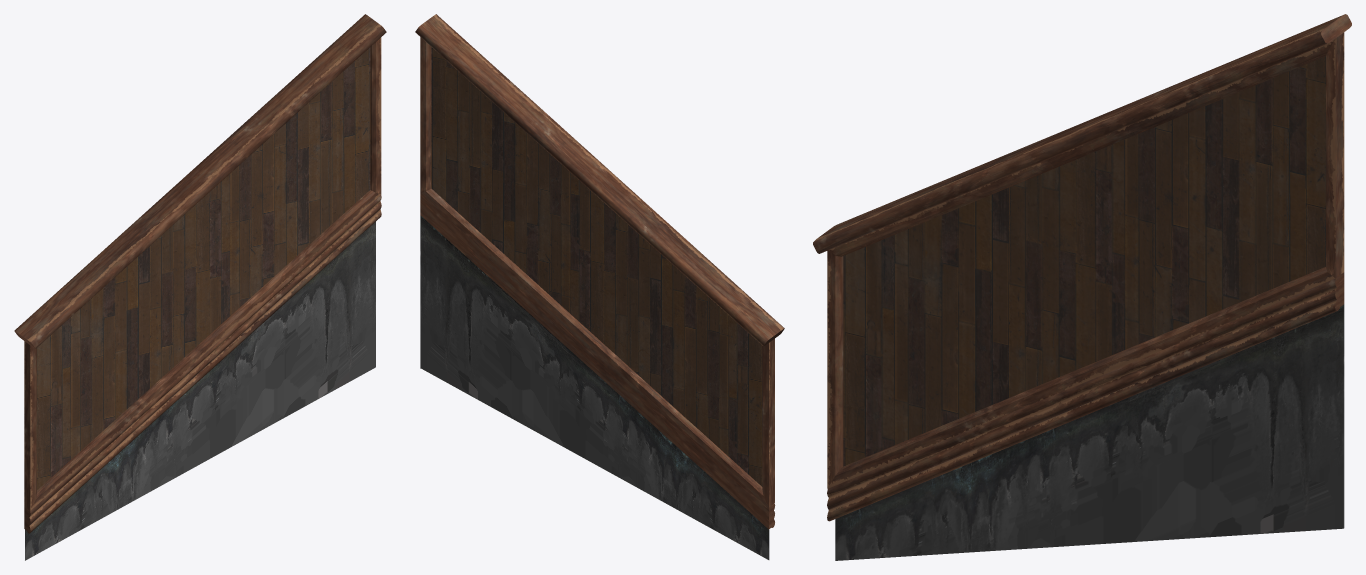
File: Kit_LadderRailingMirror.fbx
3 renders of one model, left to right at view 1: azimuth 30°, elevation 25°; view 2: azimuth 150°, elevation 25°; view 3: azimuth 330°, elevation 25°, orthographic. The views are drawn at different scales.
Visible parts, largest first — view 1: Kit_LadderRailingMirror; view 2: Kit_LadderRailingMirror; view 3: Kit_LadderRailingMirror.
Part boxes in pixels (bbox=[...]): Kit_LadderRailingMirror: bbox=[14, 14, 386, 560]; Kit_LadderRailingMirror: bbox=[415, 14, 784, 560]; Kit_LadderRailingMirror: bbox=[813, 14, 1351, 560].
Size of the model in its own units: 88 by 108 by 7.87.
